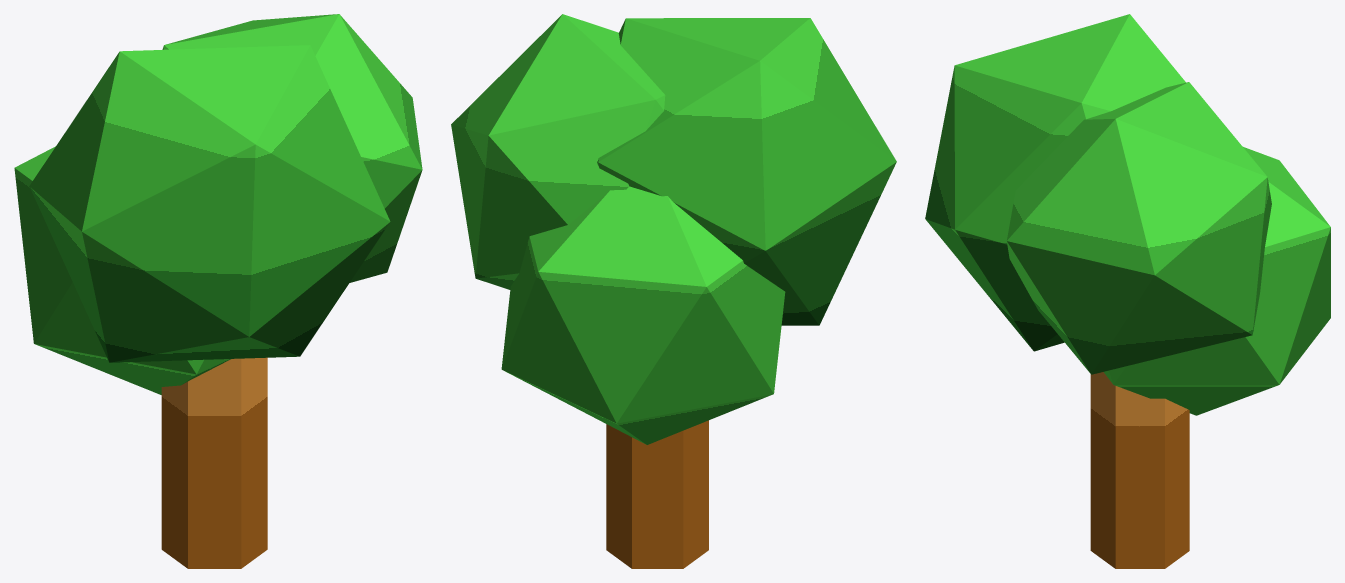
File: OakTree.fbx
3 views of the same model, side by side, from view 1: azimuth 30°, elevation 25°; view 2: azimuth 150°, elevation 25°; view 3: azimuth 270°, elevation 25° (orthographic). The views are drawn at different scales.
Visible parts, largest first — view 1: OakTree; view 2: OakTree; view 3: OakTree.
Boxes of the visible parts, x1=… form: OakTree: x1=14, y1=14, x2=422, y2=568; OakTree: x1=451, y1=14, x2=896, y2=568; OakTree: x1=925, y1=14, x2=1330, y2=568.
Bounding box in the file's own units: 89.38 × 114 × 85.07.
